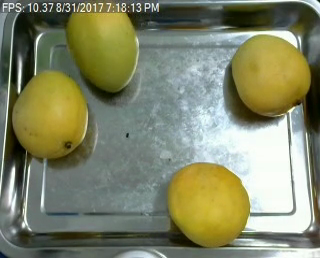Mango: (64, 1, 141, 95), (168, 160, 248, 247), (12, 71, 89, 161), (232, 32, 312, 118)
